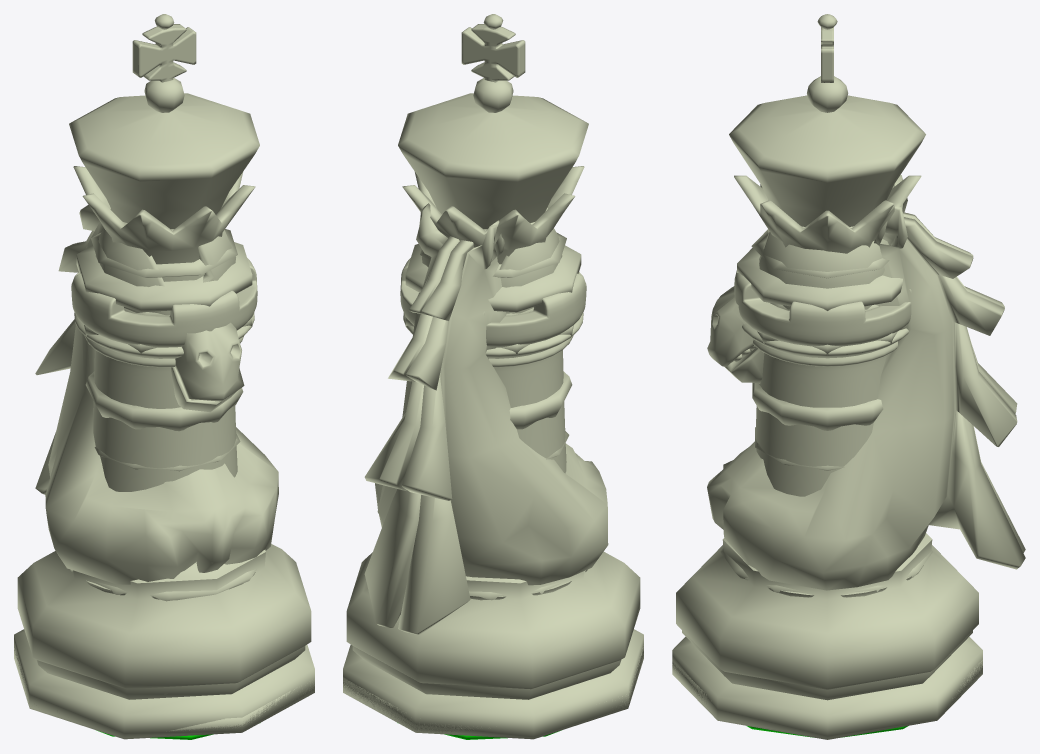
File: chess2.obj
The picture shows the model from 3 angles, left to right: view 1: azimuth 30°, elevation 25°; view 2: azimuth 150°, elevation 25°; view 3: azimuth 270°, elevation 25°; orthographic projection.
Visible parts, largest first — view 1: king, knight, rook_hi, queen, bishop, pawn; view 2: king, knight, rook_hi, queen, bishop; view 3: king, knight, rook_hi, queen, bishop.
Part boxes in pixels (bbox=[...]): king: bbox=[14, 14, 314, 738]; knight: bbox=[35, 205, 278, 694]; rook_hi: bbox=[70, 258, 257, 600]; queen: bbox=[14, 166, 314, 739]; bishop: bbox=[85, 228, 243, 431]; pawn: bbox=[94, 434, 240, 471]; king: bbox=[343, 14, 643, 738]; knight: bbox=[364, 203, 608, 635]; rook_hi: bbox=[400, 258, 587, 600]; queen: bbox=[343, 166, 643, 739]; bishop: bbox=[422, 228, 572, 429]; king: bbox=[672, 14, 982, 738]; knight: bbox=[707, 175, 1025, 592]; rook_hi: bbox=[734, 270, 923, 597]; queen: bbox=[672, 175, 982, 739]; bishop: bbox=[752, 231, 888, 430].
Size of the model in its own units: 2.07 by 4.93 by 2.36.
